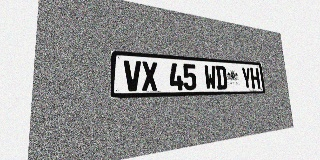4: (169, 63, 184, 90)
5: (183, 64, 197, 90)
D: (215, 66, 228, 90)
H: (250, 68, 260, 89)
V: (124, 60, 141, 91)
W: (204, 65, 217, 90)
X: (141, 61, 158, 91)
Y: (241, 67, 252, 89)
